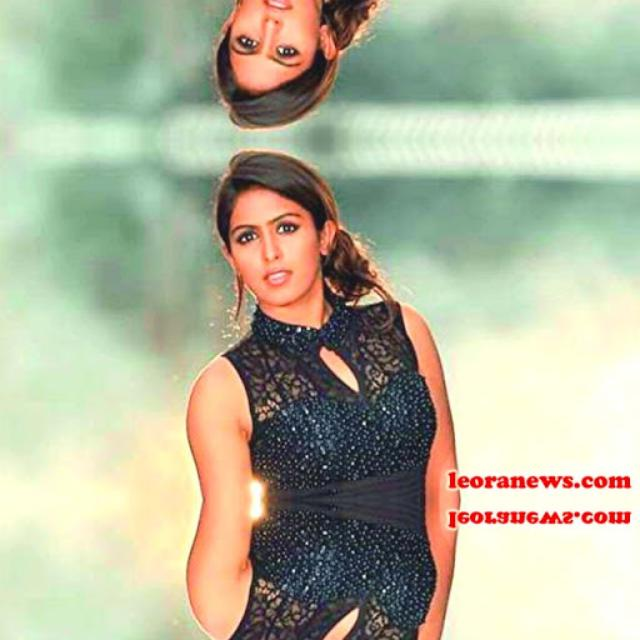person: (186, 148, 448, 500), (186, 500, 448, 640), (186, 0, 448, 131)
